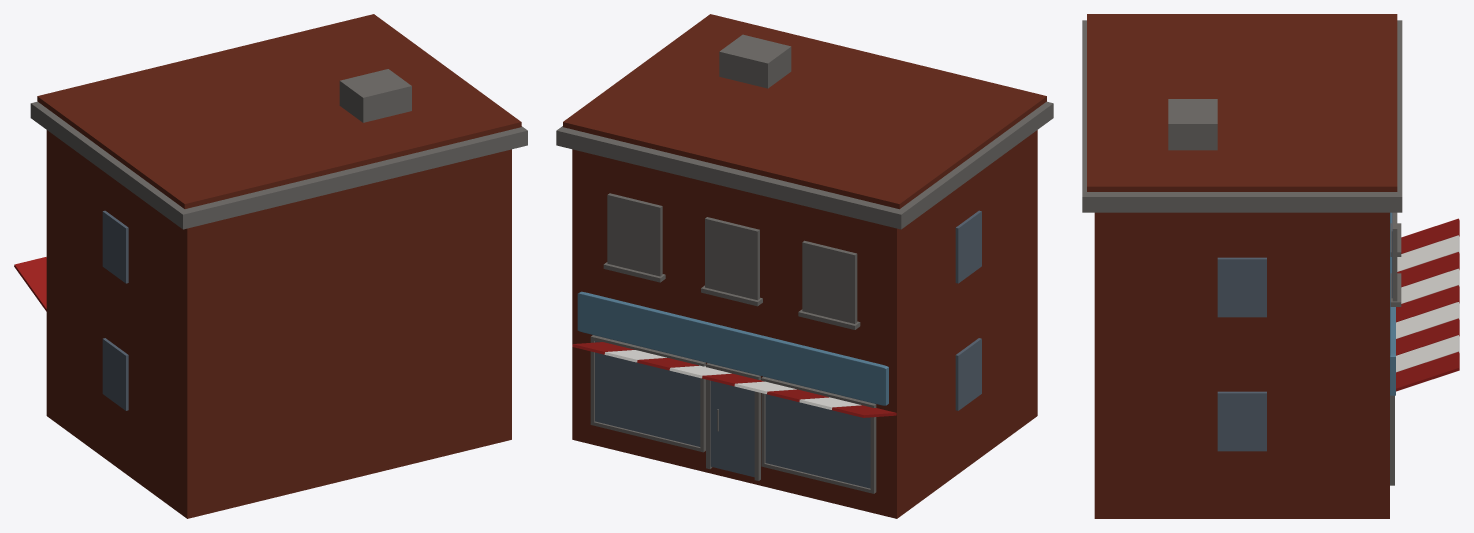
File: corner-store.glb
3 renders of one model, left to right at view 1: azimuth 30°, elevation 25°; view 2: azimuth 150°, elevation 25°; view 3: azimuth 270°, elevation 25°, orthographic. The views are drawn at different scales.
Parts seen in each view (by area): view 1: Cube, Cube.002, Cube.001, Cube.040, Cube.037, Cube.036, Cube.018; view 2: Cube, Cube.002, Cube.003, Cube.001, Cube.004, Cube.009, Cube.034, Cube.028, Cube.031, Cube.014, Cube.040, Cube.036 (+5 smaller); view 3: Cube, Cube.002, Cube.001, Cube.038, Cube.039, Cube.040, Cube.026, Cube.024, Cube.025, Cube.023, Cube.022, Cube.019 (+6 smaller).
Boxes of the visible parts, x1,y1,x2,y2 form: Cube: (46,130,511,518); Cube.002: (37,14,521,208); Cube.001: (30,101,527,229); Cube.040: (339,69,411,122); Cube.037: (102,210,128,283); Cube.036: (102,338,128,410); Cube.018: (14,257,46,311); Cube: (572,130,1037,518); Cube.002: (563,14,1046,209); Cube.003: (577,291,888,405); Cube.001: (556,101,1053,229); Cube.004: (765,394,870,488); Cube.009: (595,341,700,446); Cube.034: (607,193,662,276); Cube.028: (802,240,857,323); Cube.031: (705,217,759,300); Cube.014: (710,381,754,477); Cube.040: (719,34,791,88); Cube.036: (955,338,981,410); Cube: (1094,212,1389,518); Cube.002: (1087,14,1397,191); Cube.001: (1082,20,1402,212); Cube.038: (1217,391,1266,451); Cube.039: (1217,257,1266,317); Cube.040: (1168,99,1217,150); Cube.026: (1396,351,1459,391); Cube.024: (1396,318,1459,355); Cube.025: (1396,335,1459,372); Cube.023: (1396,302,1459,338); Cube.022: (1396,285,1459,322); Cube.019: (1397,235,1459,271).
Size of what is drawn, in the model's own units: 8.5 by 8.1 by 7.66.
